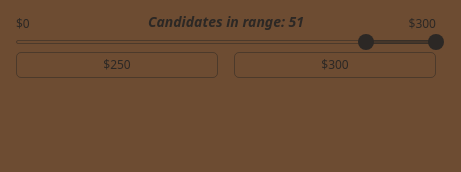
Test: CandidateRangeSlider › does not let intermediate keystrokes apply the candidate cap to the other handle
Replace the text in the field named "Minimum total spending amount" with "1" at x=117, y=65, box 16,52 -> 218,78
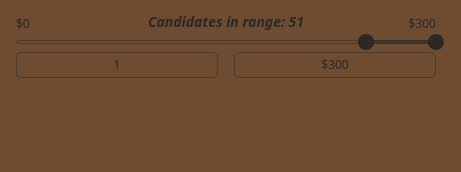
Replace the text in the field named "Minimum total spending amount" with "10" at x=117, y=65, box 16,52 -> 218,78
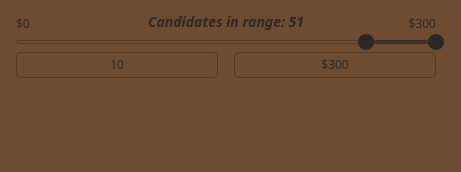
Replace the text in the field named "Minimum total spending amount" with "100" at x=117, y=65, box 16,52 -> 218,78
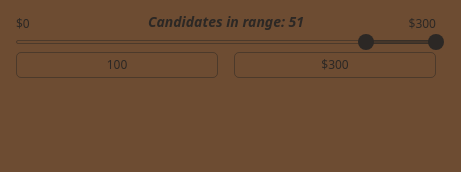
Expected: the field named "Maximum total spending amount" holds "$300", 234,52 -> 436,78
Leave the field named "Minimum total spending amount", box 16,52 -> 218,78
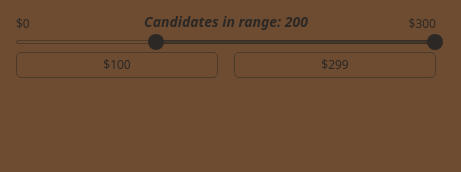
Expected: the field named "Maximum total spending amount" holds "$299", 234,52 -> 436,78
